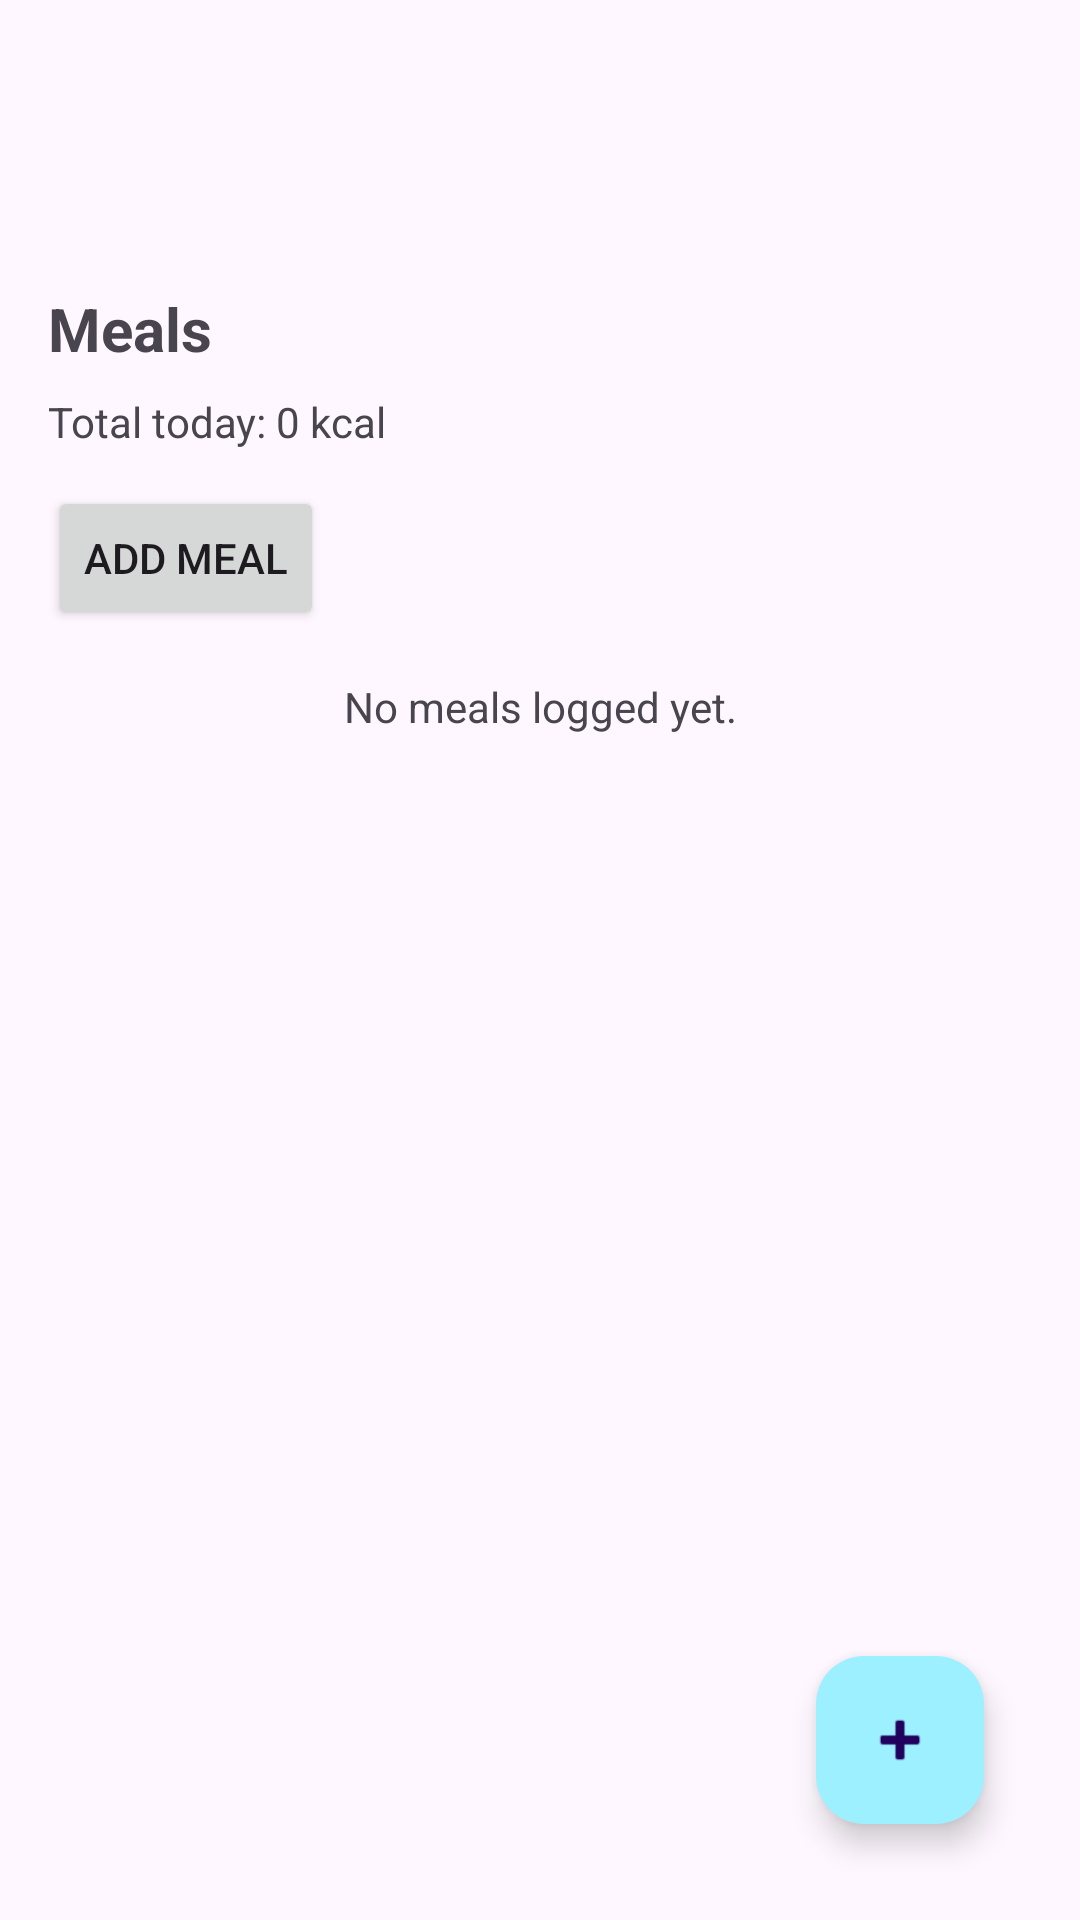

Where to tap for icons on this 1080px×1920px app screen, as (x=x, y=y):
Add meal: (x=900, y=1740)
